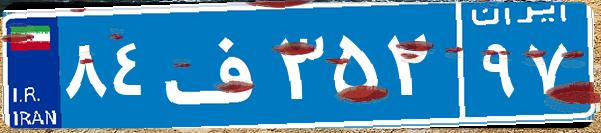2: (385, 28, 445, 110)
3: (273, 28, 330, 110)
4: (110, 28, 158, 105)
5: (330, 28, 385, 110)
7: (525, 38, 570, 115)
8: (57, 26, 110, 107)
9: (475, 38, 525, 113)
ف: (158, 15, 273, 115)
